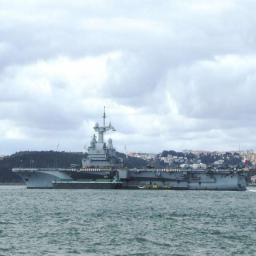Portanaves: (11, 109, 251, 192)
